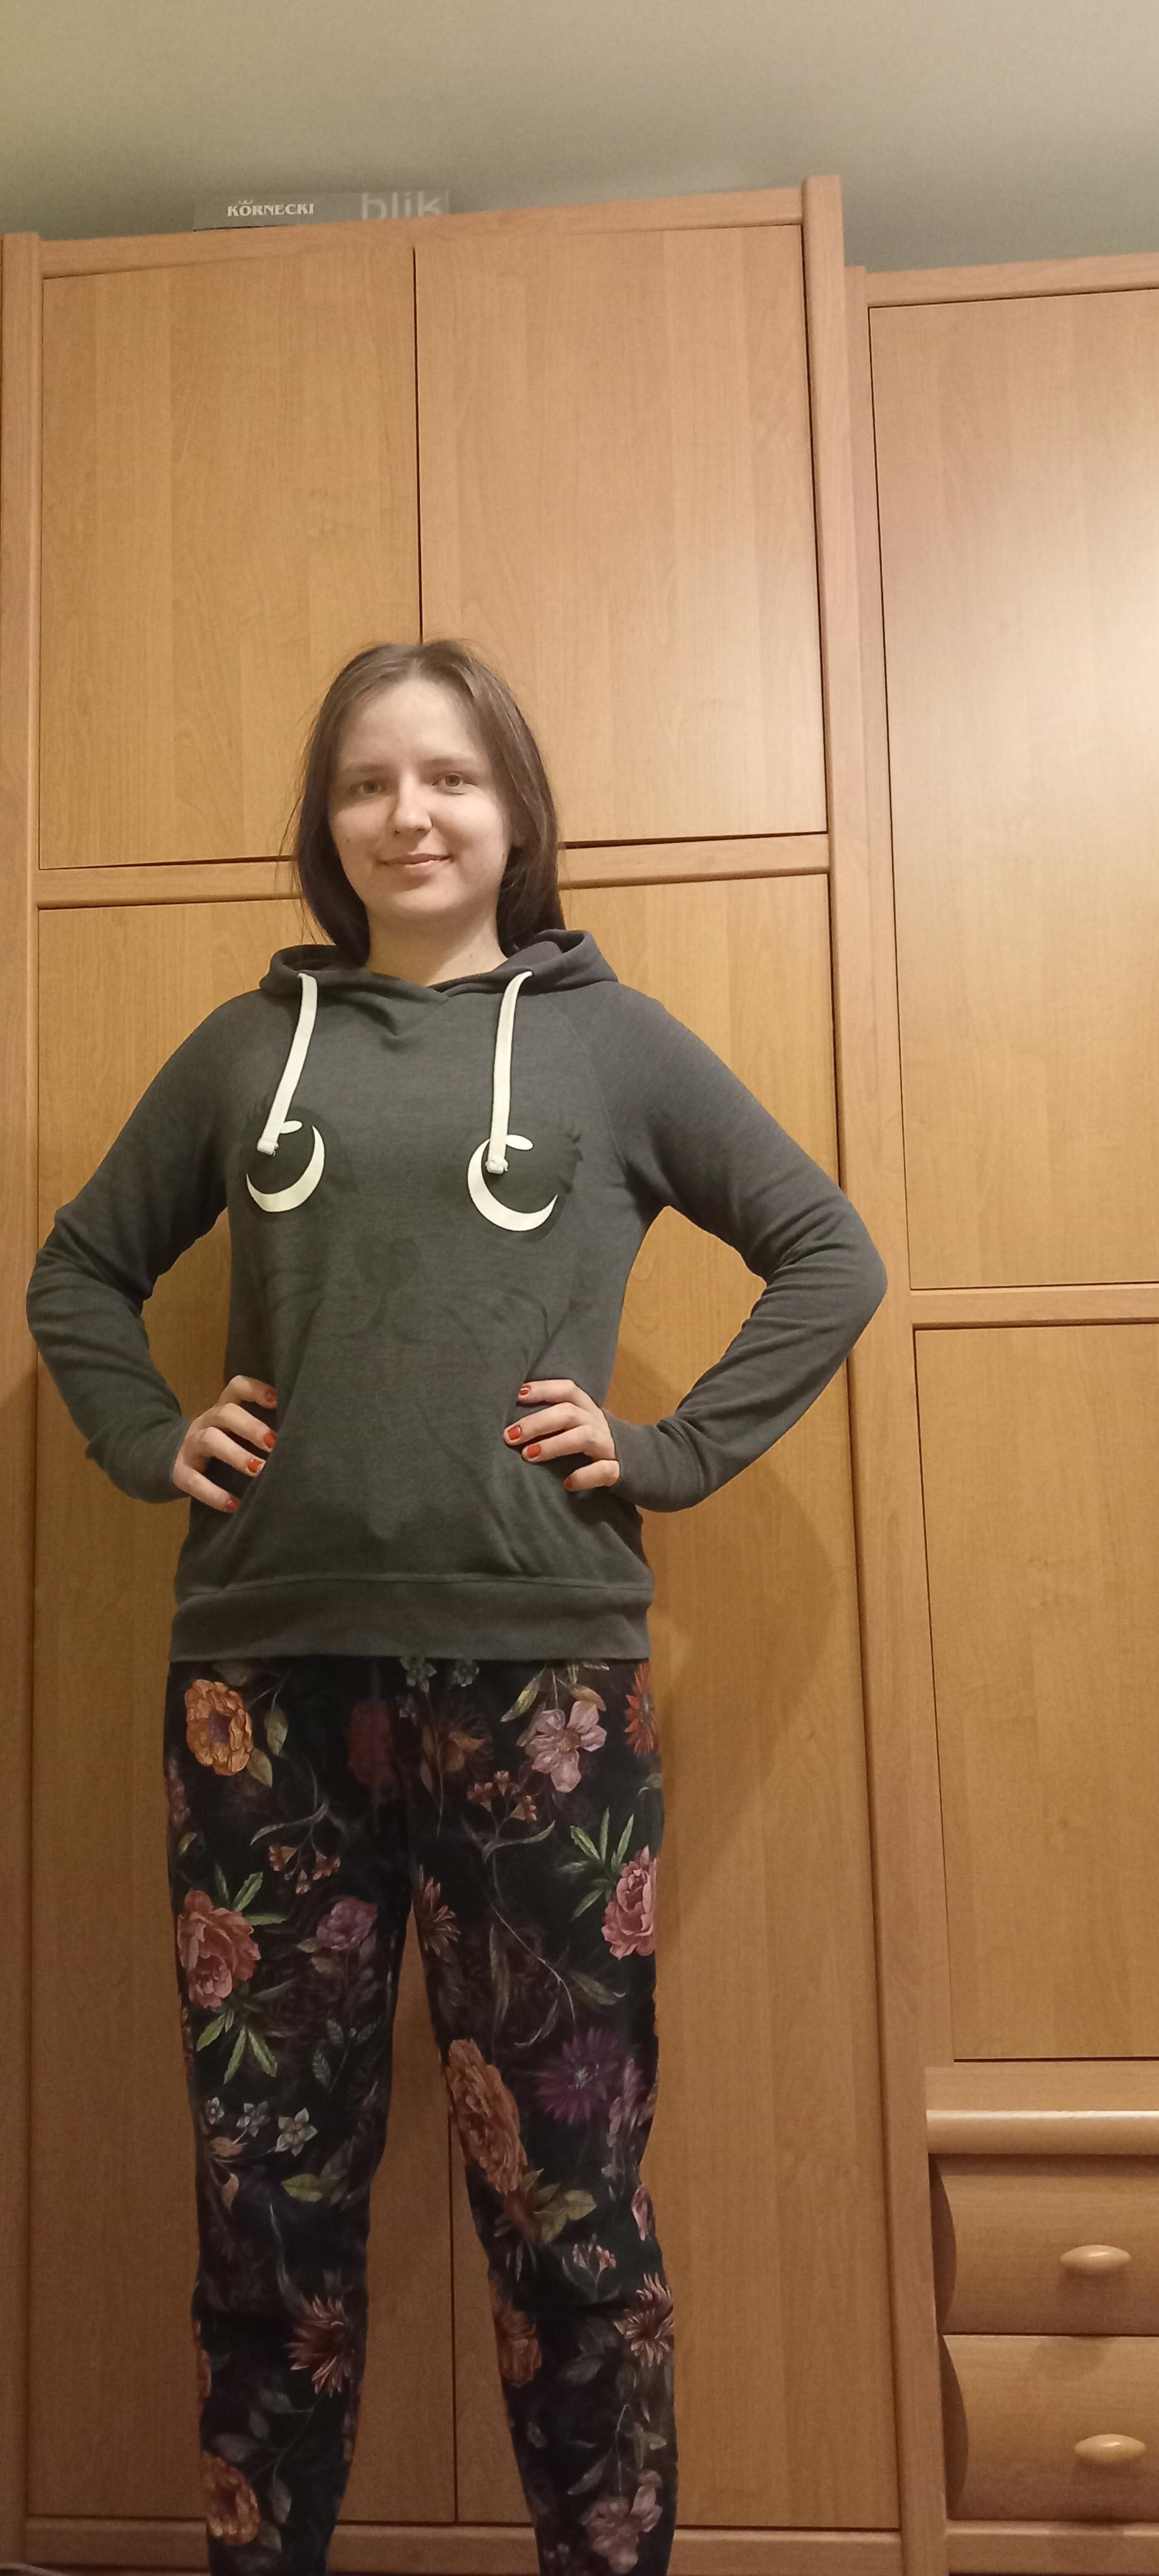pants: (156, 1654, 676, 2576)
sweater: (20, 925, 890, 1664)
